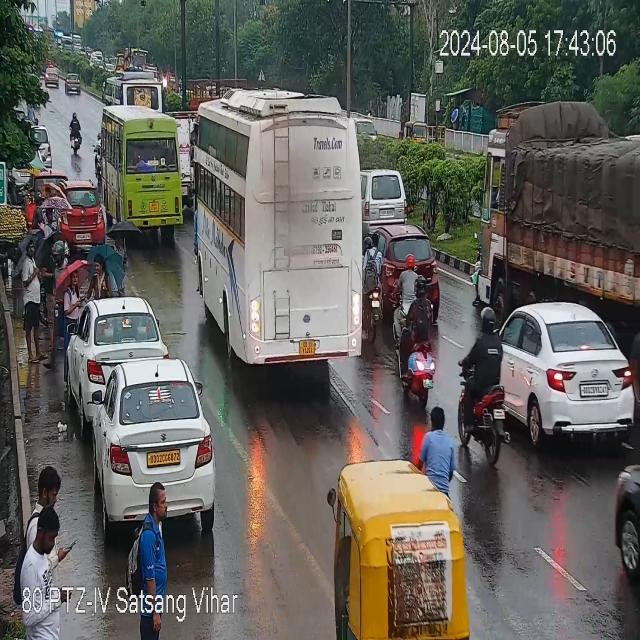2-wheelers: (455, 296, 513, 459), (394, 250, 445, 380), (461, 380, 513, 462), (419, 404, 456, 494), (362, 233, 381, 343), (71, 108, 81, 154), (94, 132, 102, 182)
auto: (325, 448, 473, 640)
bus: (192, 84, 374, 380), (100, 102, 184, 238), (103, 73, 166, 106)
car: (82, 361, 221, 524), (506, 306, 638, 444), (66, 296, 163, 398), (383, 224, 441, 320), (612, 458, 638, 584), (56, 187, 108, 245), (358, 172, 407, 228), (65, 71, 81, 94), (44, 66, 59, 84)
pedestrian: (131, 485, 168, 595), (20, 466, 64, 544), (20, 238, 45, 365), (22, 510, 59, 590), (47, 240, 65, 369), (65, 266, 81, 338), (85, 255, 109, 303), (111, 228, 128, 290), (25, 189, 37, 230), (44, 208, 54, 241), (35, 192, 43, 230), (44, 184, 53, 198)
truck: (475, 129, 640, 320), (115, 44, 134, 70)
